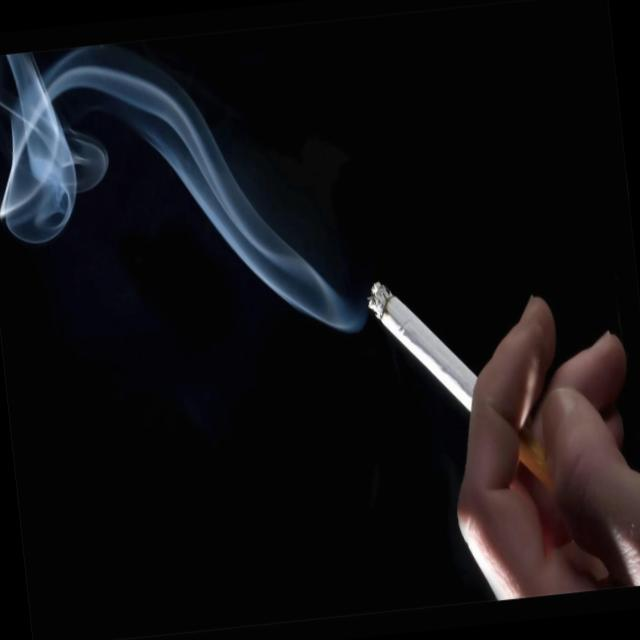smoke: (364, 256, 616, 556)
